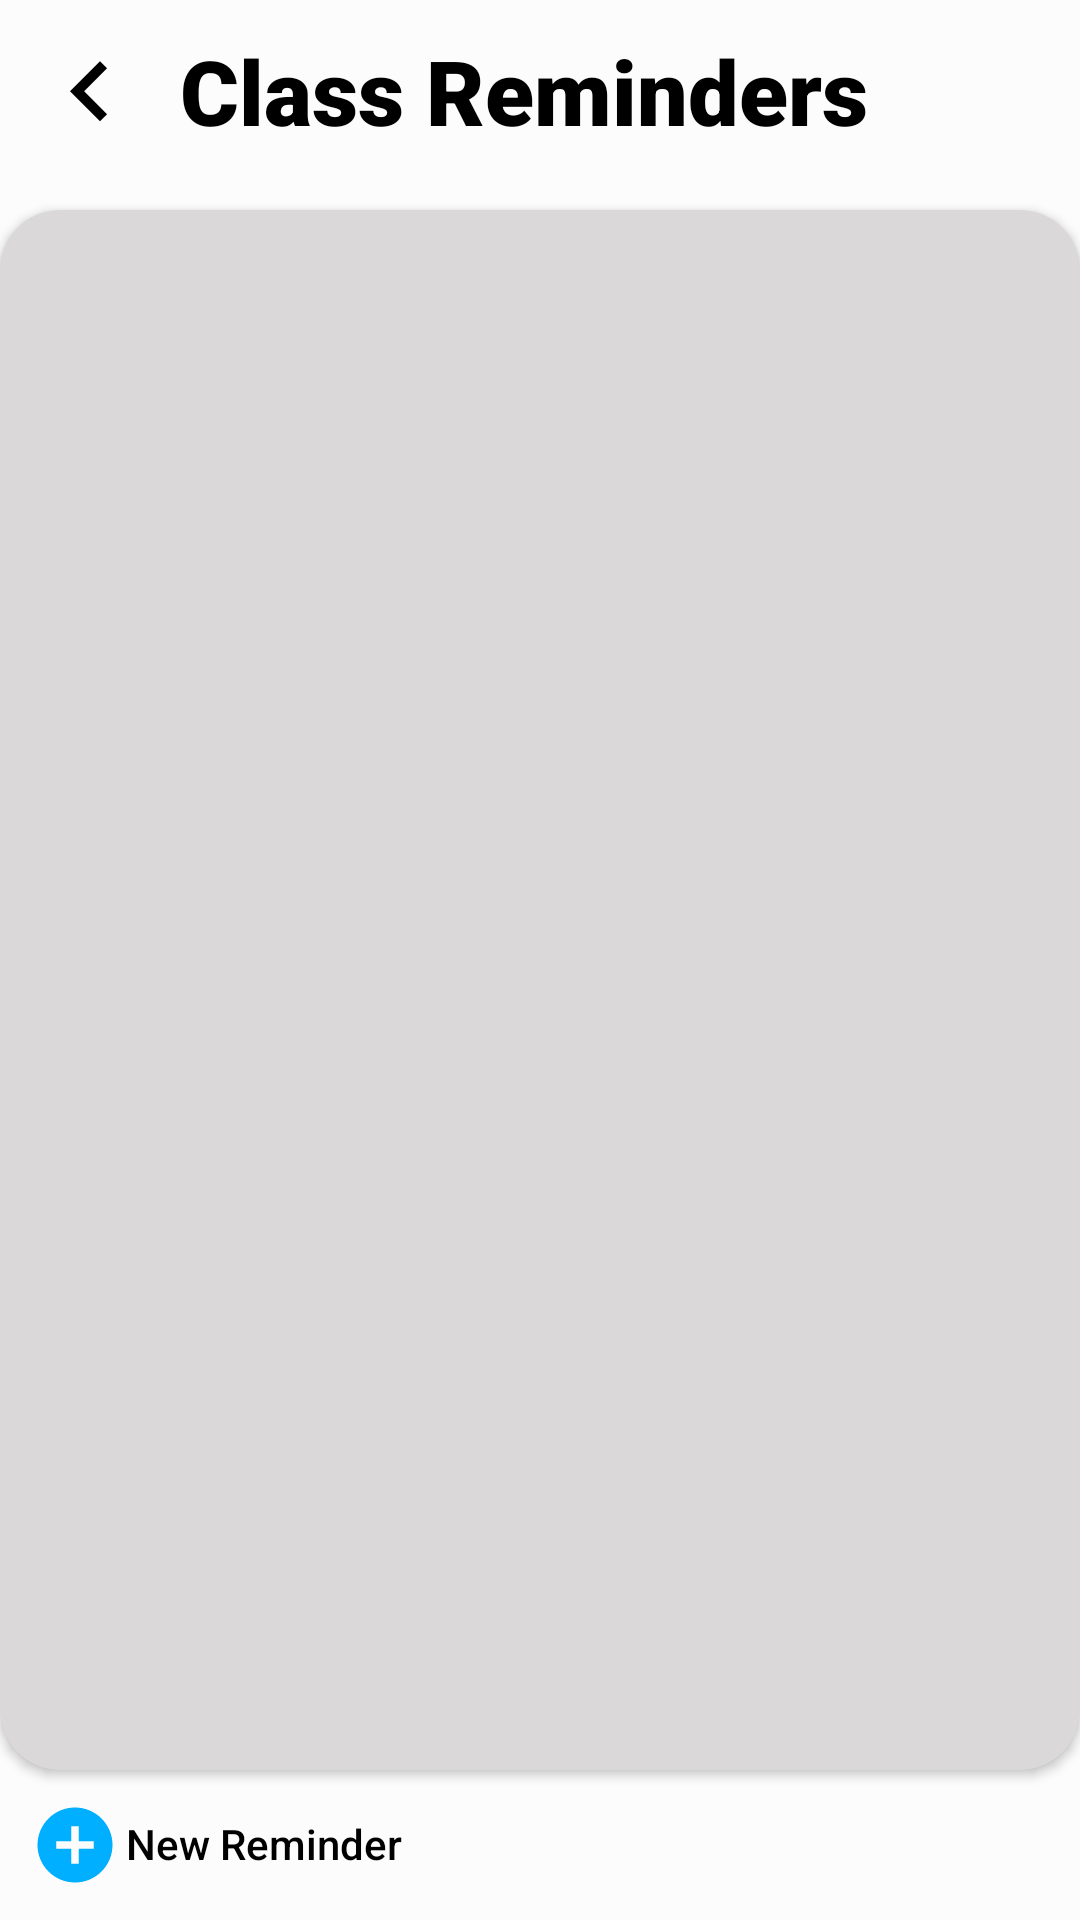

Icons on this 1080px×1920px Android screen, each with the point to tap as point (x, y):
add circle: point (75, 1845)
